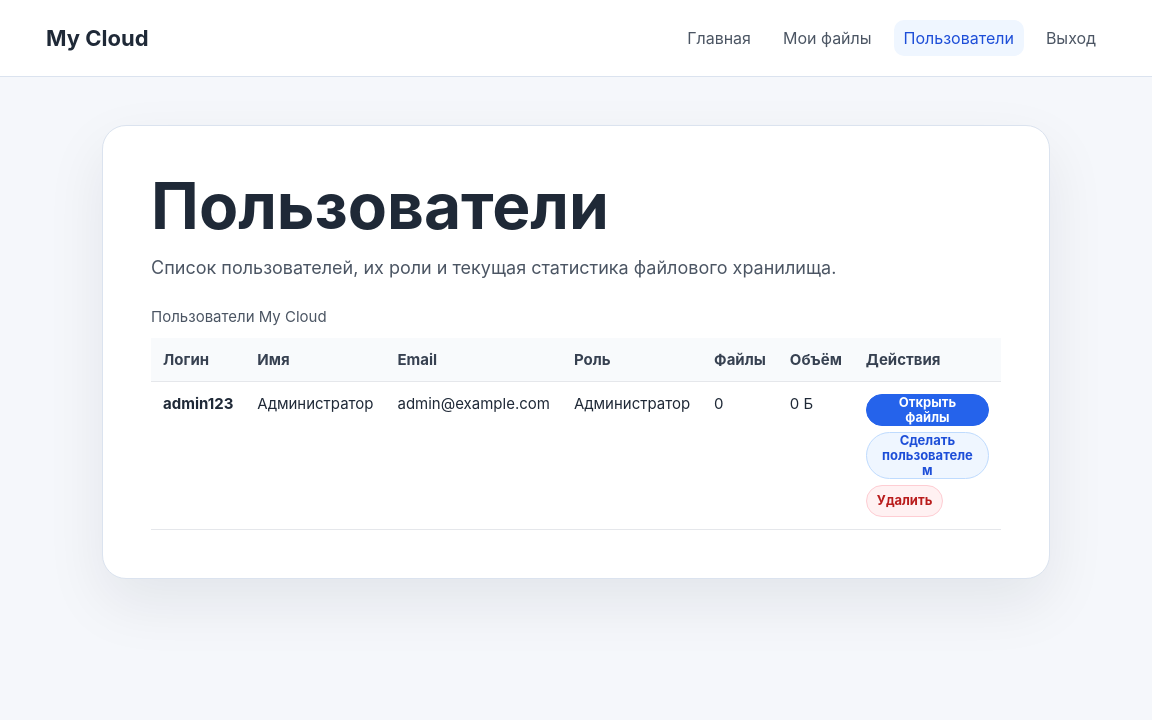
Scenario: App › shows delete user error for admin
Click the button "Удалить".
click(905, 501)  # box [866,485,943,517]
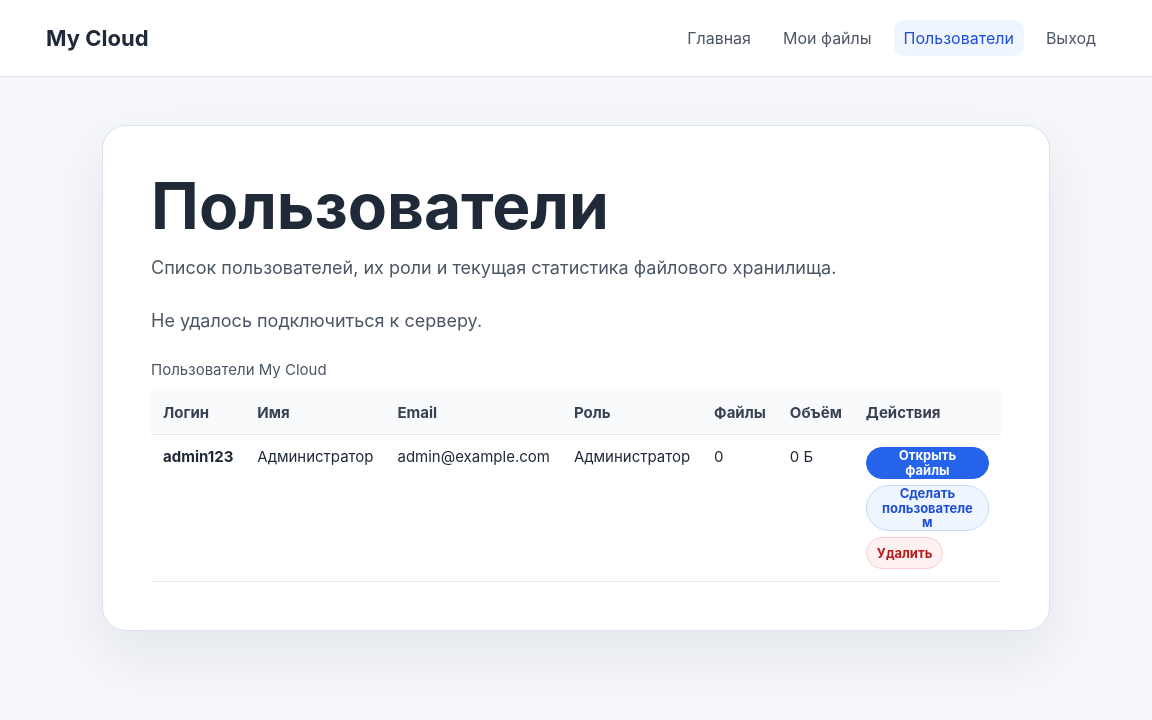
Now the message reads "Не удалось подключиться к серверу.", box [151,310,482,331]
